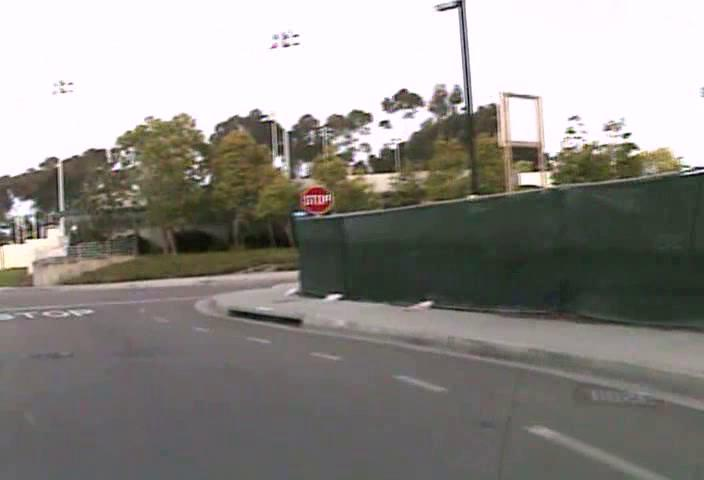stop: (301, 184, 333, 215)
